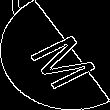M_NE: (14, 22, 96, 88)
